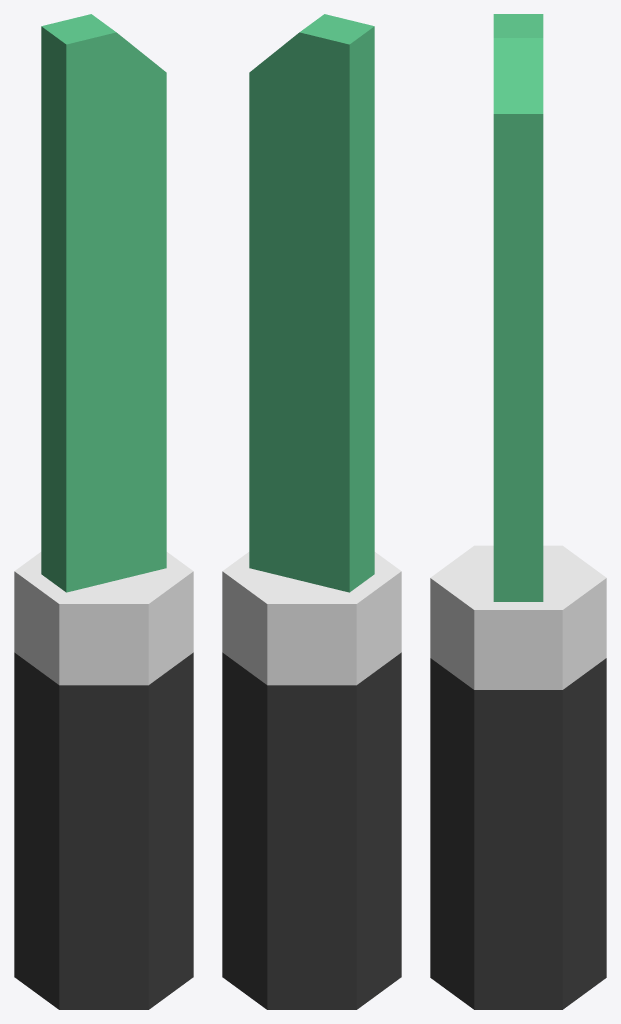
File: laserSabel.glb
3 renders of one model, left to right at view 1: azimuth 30°, elevation 25°; view 2: azimuth 150°, elevation 25°; view 3: azimuth 270°, elevation 25°, orthographic.
Parts seen in each view (by area): view 1: laserSabel; view 2: laserSabel; view 3: laserSabel.
Boxes of the visible parts, x1,y1,x2,y2 form: laserSabel: (14,14,193,1009); laserSabel: (222,14,401,1009); laserSabel: (430,14,606,1009).
Bounding box in the file's own units: 0.6928 × 4.7 × 0.8.
